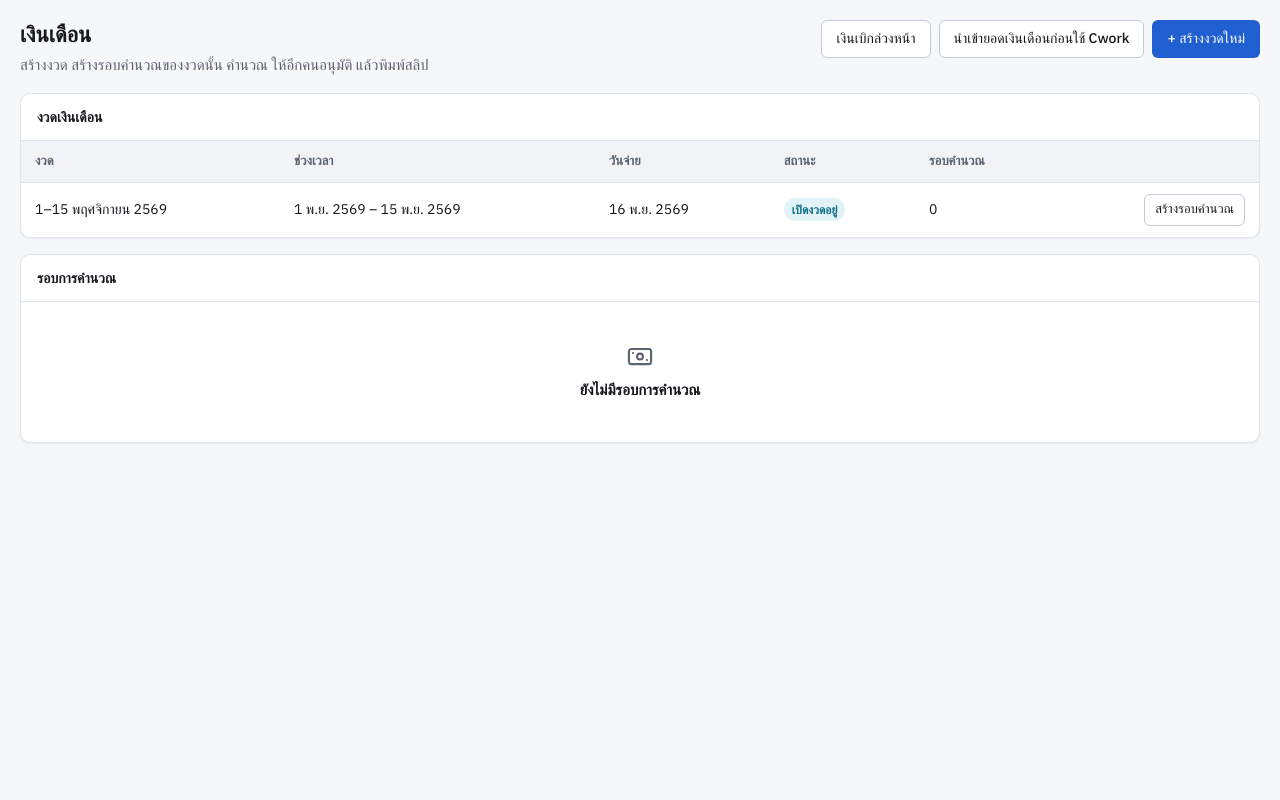
First-time use of the periods page › fills the pay date with the end of the period until HR picks one
The image size is (1280, 800).
Click the button "+ สร้างงวดใหม่": (1206, 39) x1=1152 y1=20 x2=1260 y2=58
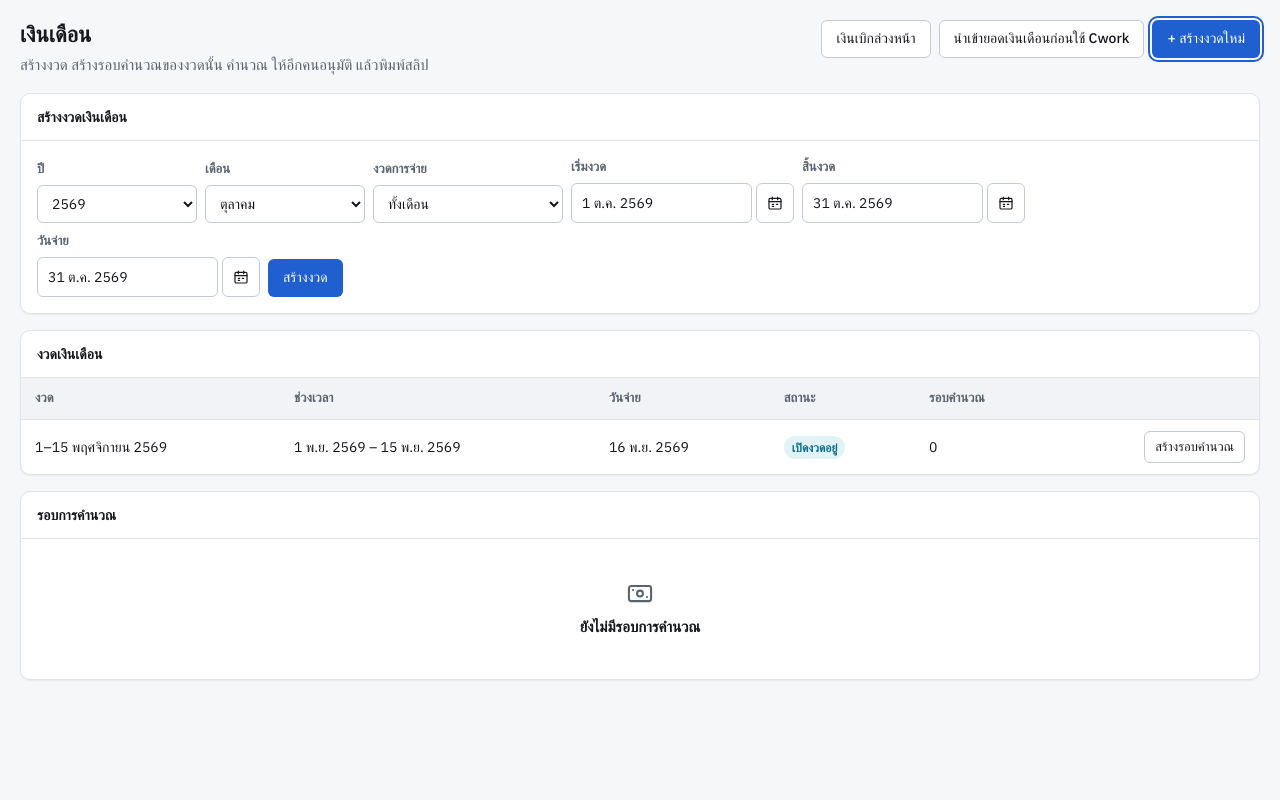
Result: the field labelled "วันจ่าย" holds "31 ต.ค. 2569" at x1=37 y1=257 x2=218 y2=297
Select "ครึ่งแรก (วันที่ 1–15)" in the dropdown labelled "งวดการจ่าย": (468, 204) x1=373 y1=185 x2=563 y2=223
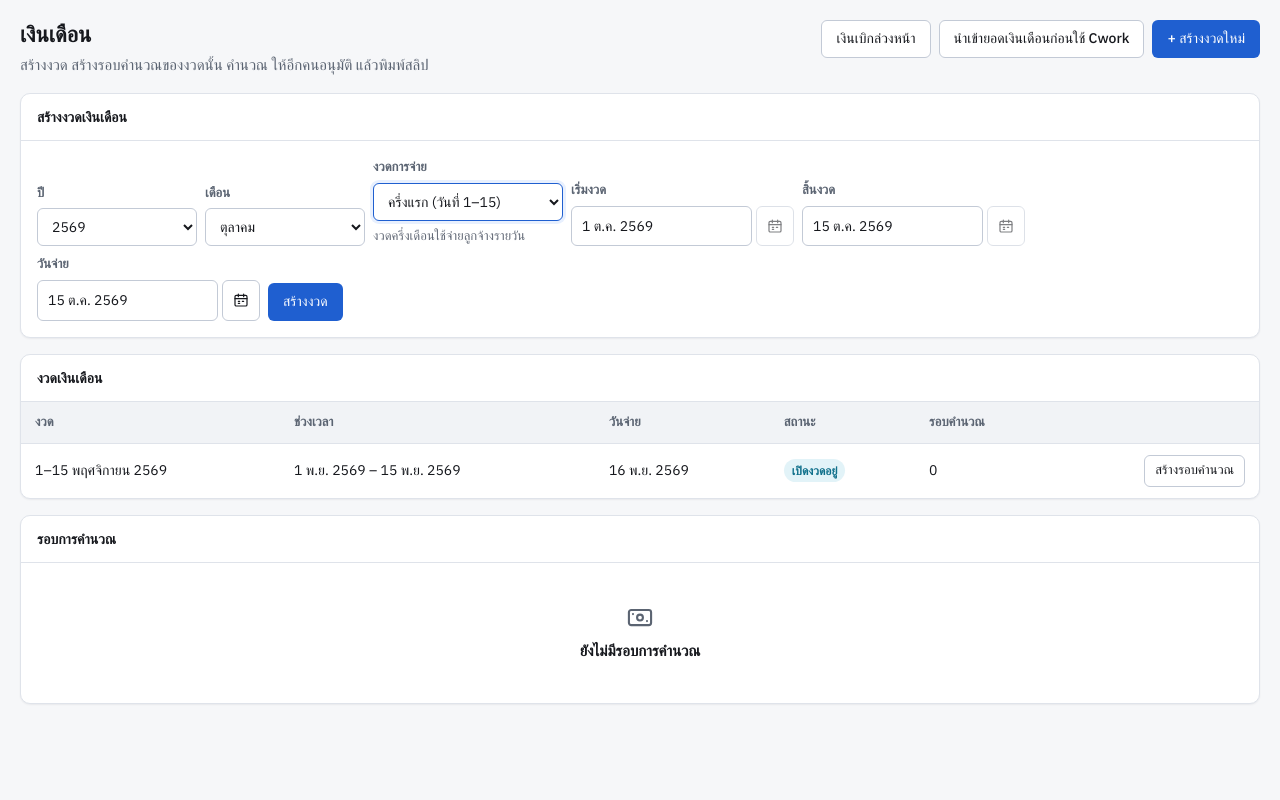
Result: the field labelled "วันจ่าย" holds "15 ต.ค. 2569" at x1=37 y1=280 x2=218 y2=321
